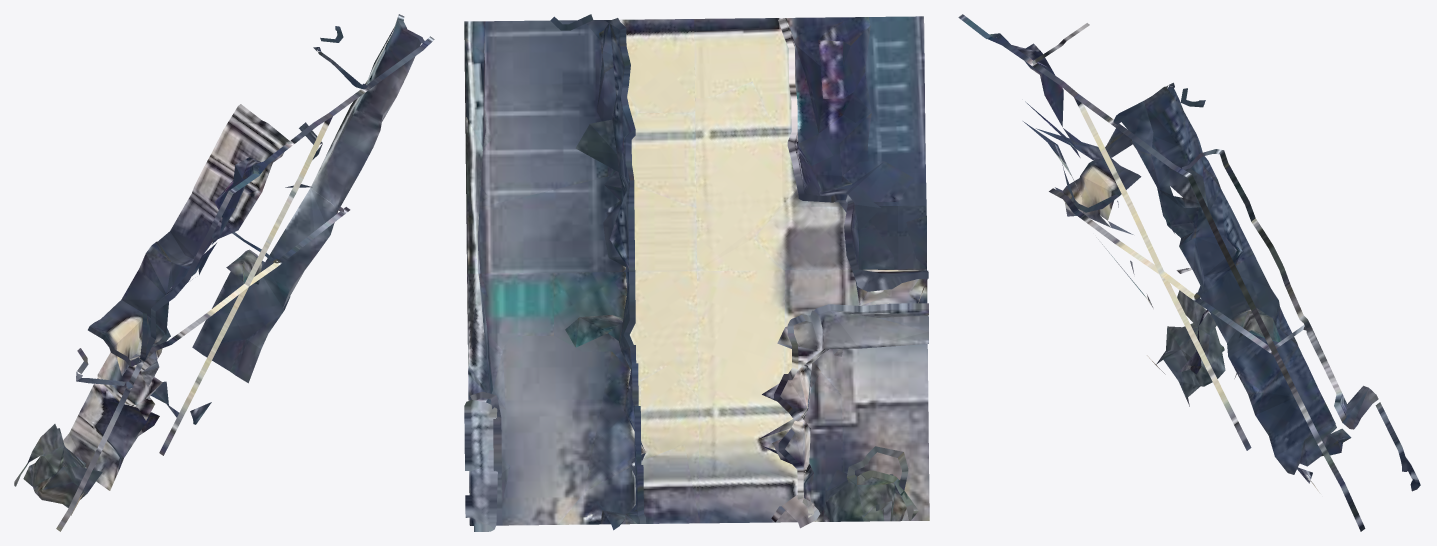
3 renders of one model, left to right at view 1: azimuth 30°, elevation 25°; view 2: azimuth 150°, elevation 25°; view 3: azimuth 270°, elevation 25°, orthographic. The views are drawn at different scales.
Size of the model in its own units: 39.86 by 37.51 by 36.46.
Materials: 2 (2 with a texture image).
